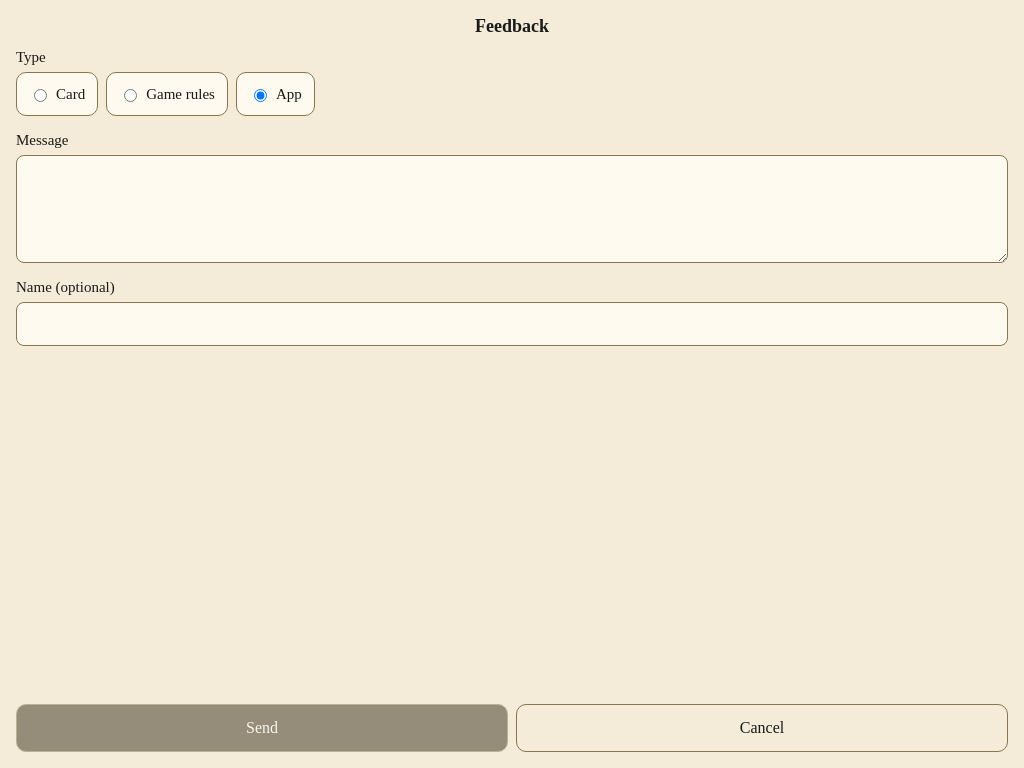
it: a success shows Thank you and then closes
Type "A bug" into the text box labelled "Message" at (512, 209), box left=16, top=155, right=1008, bottom=263
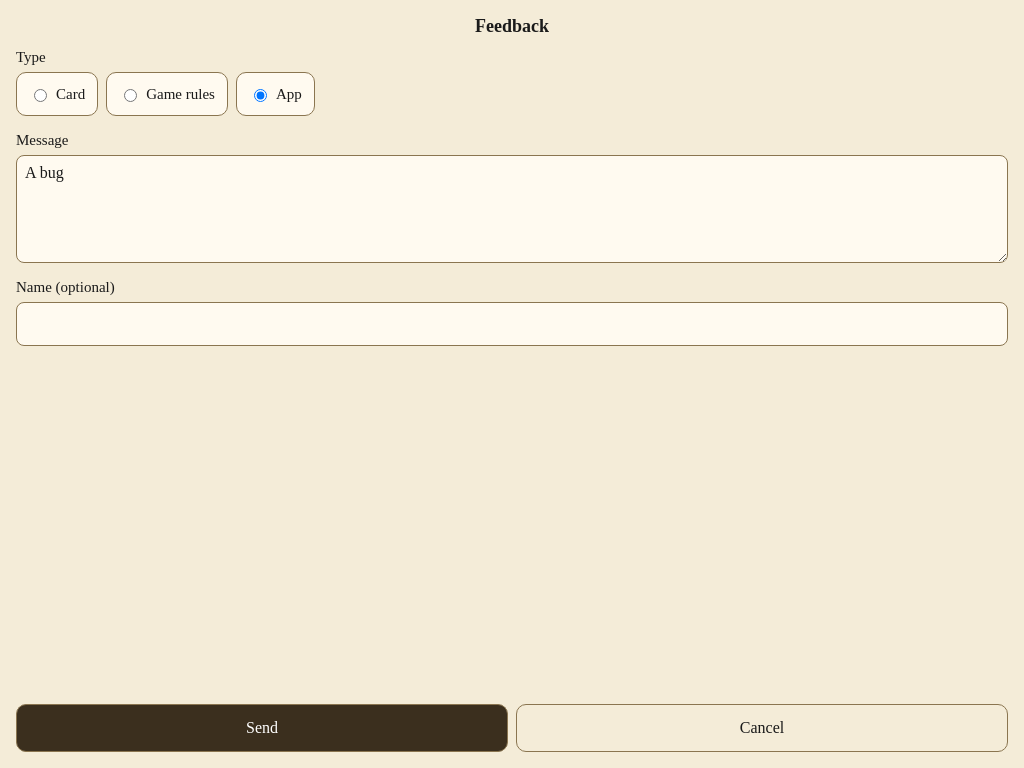
Click the button "Send" at (262, 728), box left=16, top=704, right=508, bottom=752
Wait 2000 ms
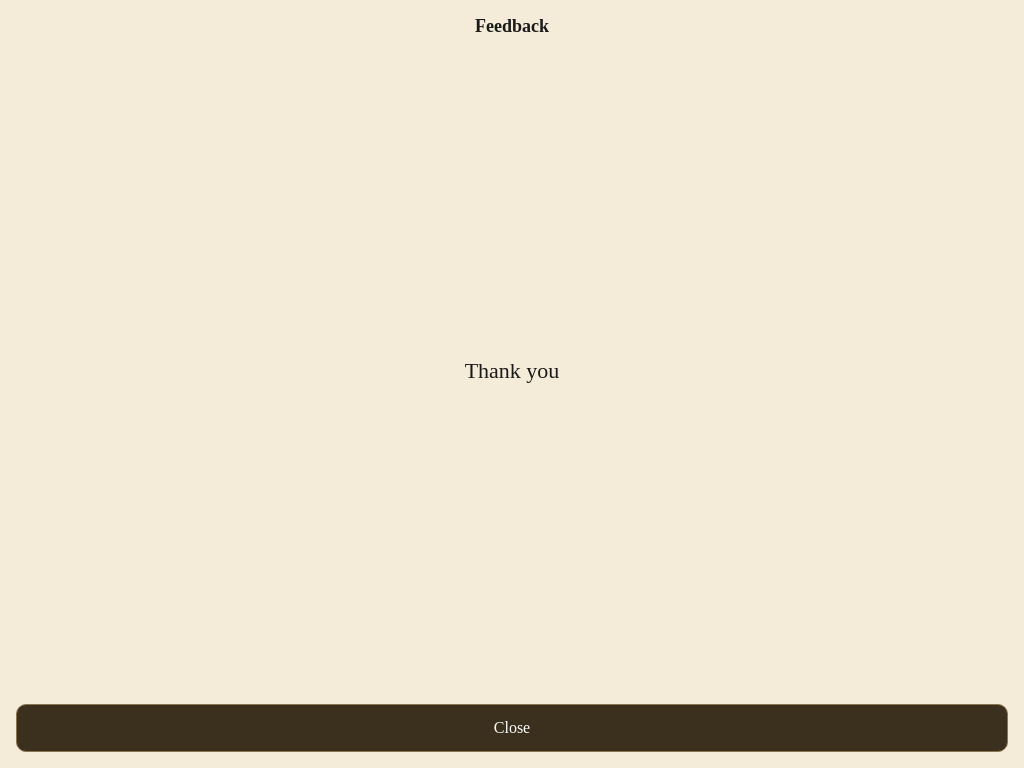
Now the text "Thank you" is shown, box left=465, top=358, right=559, bottom=382
